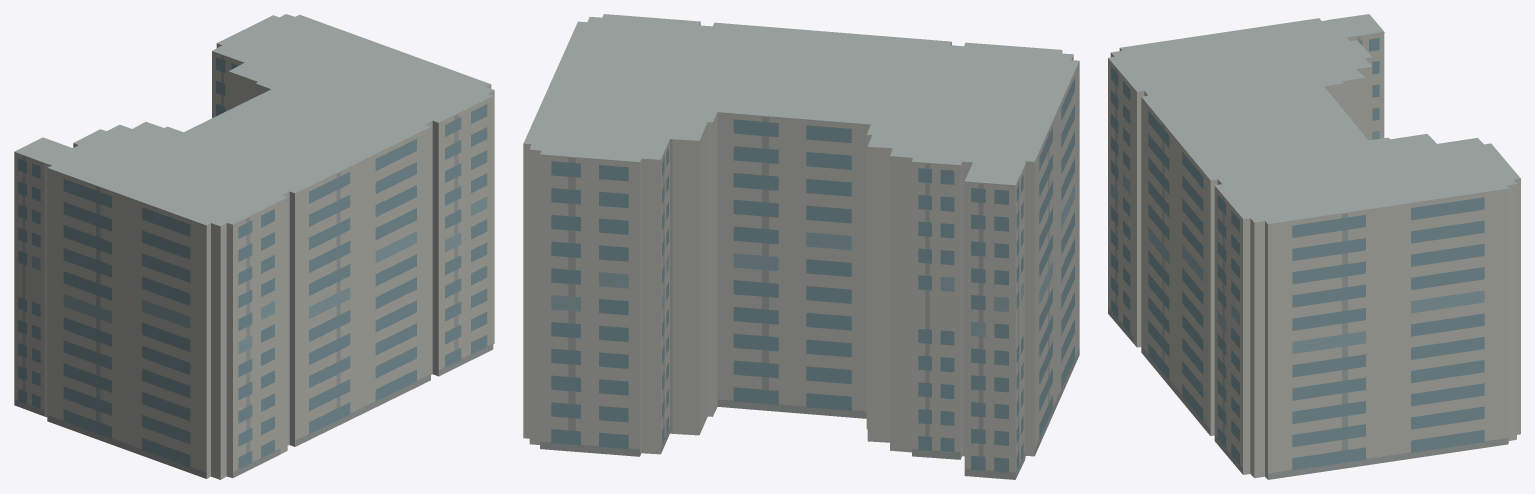
Rendered from survey-upis-32762907.glb.
3 renders of one model, left to right at view 1: azimuth 30°, elevation 25°; view 2: azimuth 150°, elevation 25°; view 3: azimuth 270°, elevation 25°, orthographic. The views are drawn at different scales.
Parts seen in each view (by area): view 1: survey-upis-32762907.tmp; view 2: survey-upis-32762907.tmp; view 3: survey-upis-32762907.tmp.
Part boxes in pixels (box(x1,y1,x2,y2)): survey-upis-32762907.tmp: box(14, 14, 494, 479); survey-upis-32762907.tmp: box(523, 14, 1079, 479); survey-upis-32762907.tmp: box(1108, 14, 1520, 479).
Bounding box in the file's own units: 95.14 × 54 × 78.98.
